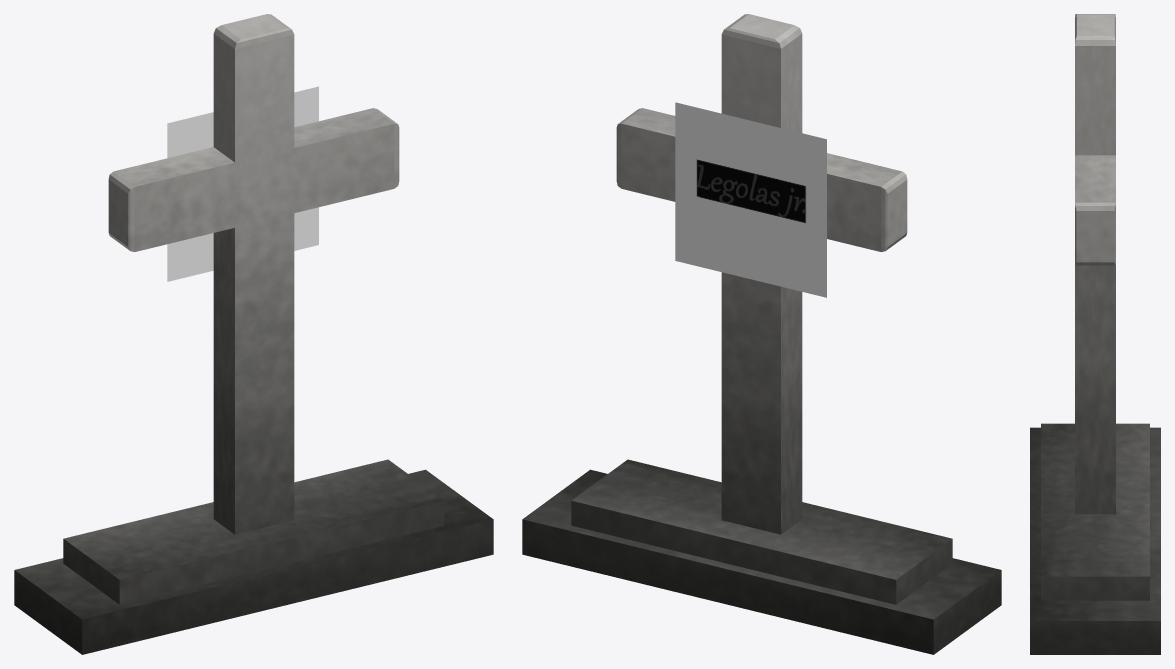
The model's file is tombston_model_02.fbx.
3 renders of one model, left to right at view 1: azimuth 30°, elevation 25°; view 2: azimuth 150°, elevation 25°; view 3: azimuth 270°, elevation 25°, orthographic. The views are drawn at different scales.
Parts seen in each view (by area): view 1: Cube.001, Plano.001; view 2: Cube.001, Plano.001; view 3: Cube.001.
Part boxes in pixels (box(x1,y1,x2,y2)): Cube.001: box(14, 14, 493, 654); Plano.001: box(167, 86, 318, 281); Cube.001: box(522, 14, 1001, 654); Plano.001: box(675, 102, 826, 297); Cube.001: box(1030, 14, 1160, 654).
Size of the model in its own units: 0.7 by 0.9 by 0.2.
